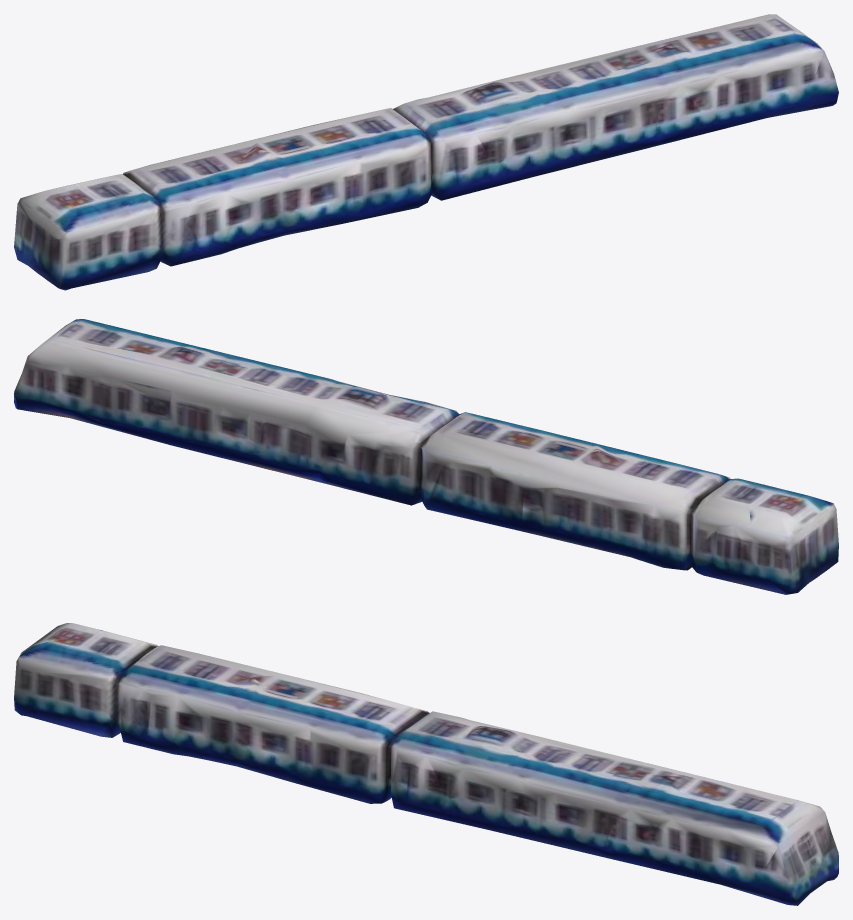
The model's file is train.glb.
3 views of the same model, one above another, from view 1: azimuth 30°, elevation 25°; view 2: azimuth 150°, elevation 25°; view 3: azimuth 330°, elevation 25° (orthographic).
Parts seen in each view (by area): view 1: material; view 2: material; view 3: material.
Part boxes in pixels (bbox=[...]): material: bbox=[14, 14, 838, 290]; material: bbox=[14, 319, 838, 594]; material: bbox=[14, 623, 838, 905].
Bounding box in the file's own units: 1.19 × 0.1142 × 0.1358.
1 material, 1 textured.
